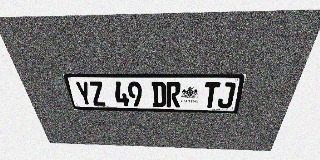4: (113, 81, 130, 106)
9: (127, 81, 143, 107)
D: (151, 82, 166, 107)
J: (217, 82, 236, 108)
R: (166, 82, 181, 107)
T: (202, 82, 220, 108)
Y: (74, 81, 94, 106)
Z: (88, 81, 107, 106)
